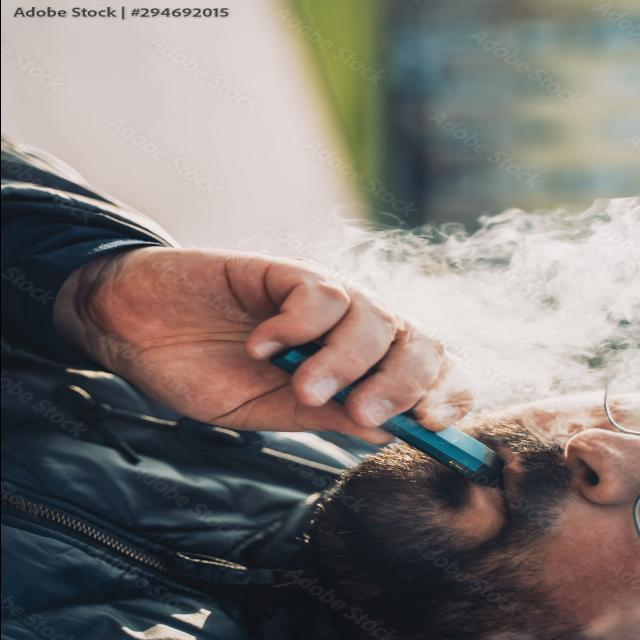Hazard: (262, 336, 508, 485)
